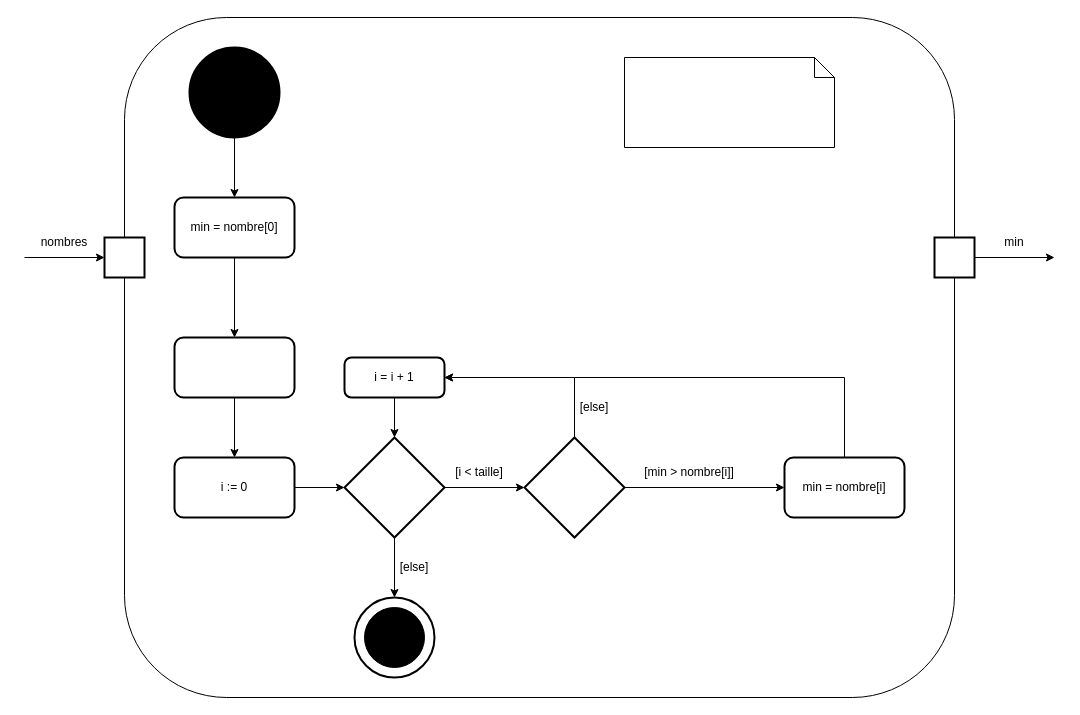
Image size: 1080x715. Some labels were removed from this diagram. Here are the shapes that lost their labels. From the top down, the centre of each, then its label:
At [729,102]: "nombres (liste de float) min (float)".
At [234,367]: "taille = longueur de points".
